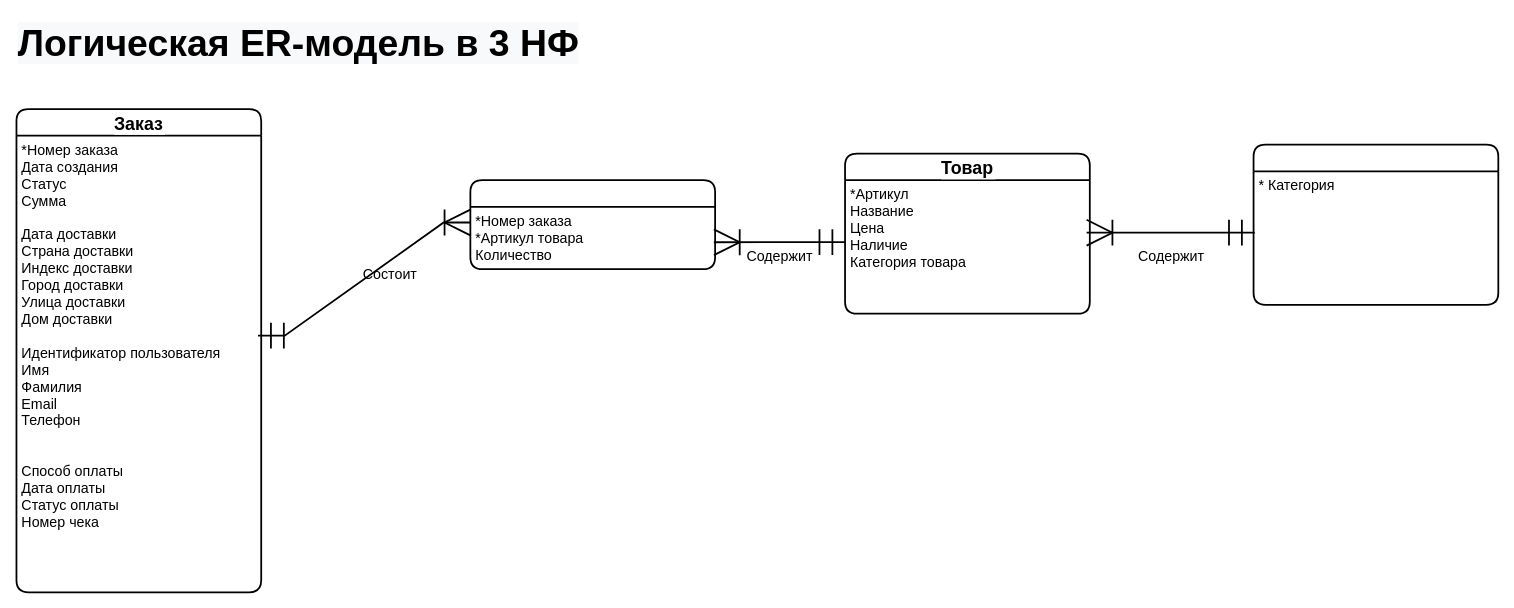
Image size: 1514x608. Some labels were removed from this diagram. Here are the shapes that lost their labels. From the top down, the box of each, then its label:
(469, 179, 716, 270): Товары в заказе
(1252, 143, 1499, 305): Категория товара
